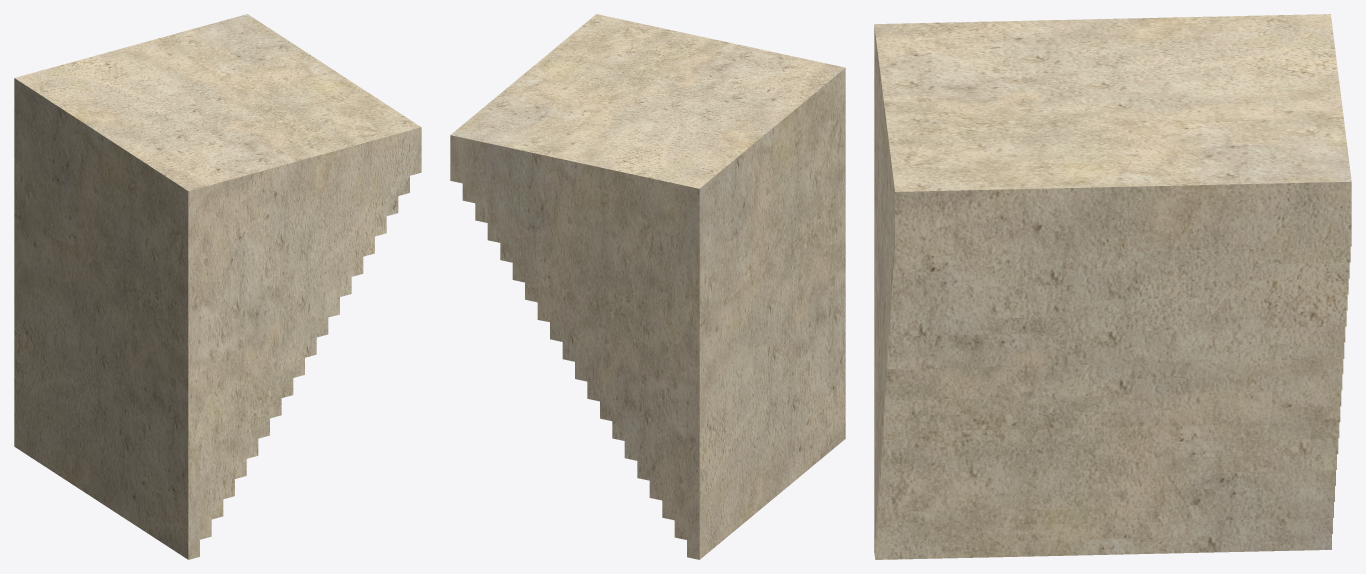
The model's file is concrete_23.fbx.
The picture shows the model from 3 angles, left to right: view 1: azimuth 30°, elevation 25°; view 2: azimuth 150°, elevation 25°; view 3: azimuth 270°, elevation 25°; orthographic projection. The views are drawn at different scales.
Visible parts, largest first — view 1: concrete_23; view 2: concrete_23; view 3: concrete_23.
Boxes of the visible parts, <box> form: concrete_23: <box>14,14,421,559</box>; concrete_23: <box>450,14,845,559</box>; concrete_23: <box>874,14,1351,559</box>.
Size of the model in its own units: 256 by 354 by 291.
